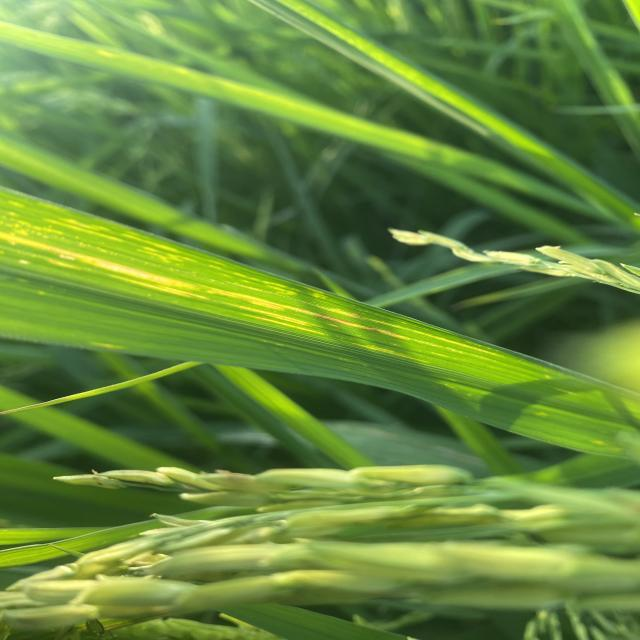Dom soc vi khuan: (0, 231, 198, 289), (207, 288, 408, 340), (238, 306, 309, 325), (254, 316, 323, 334), (353, 343, 414, 360), (319, 307, 363, 318)
